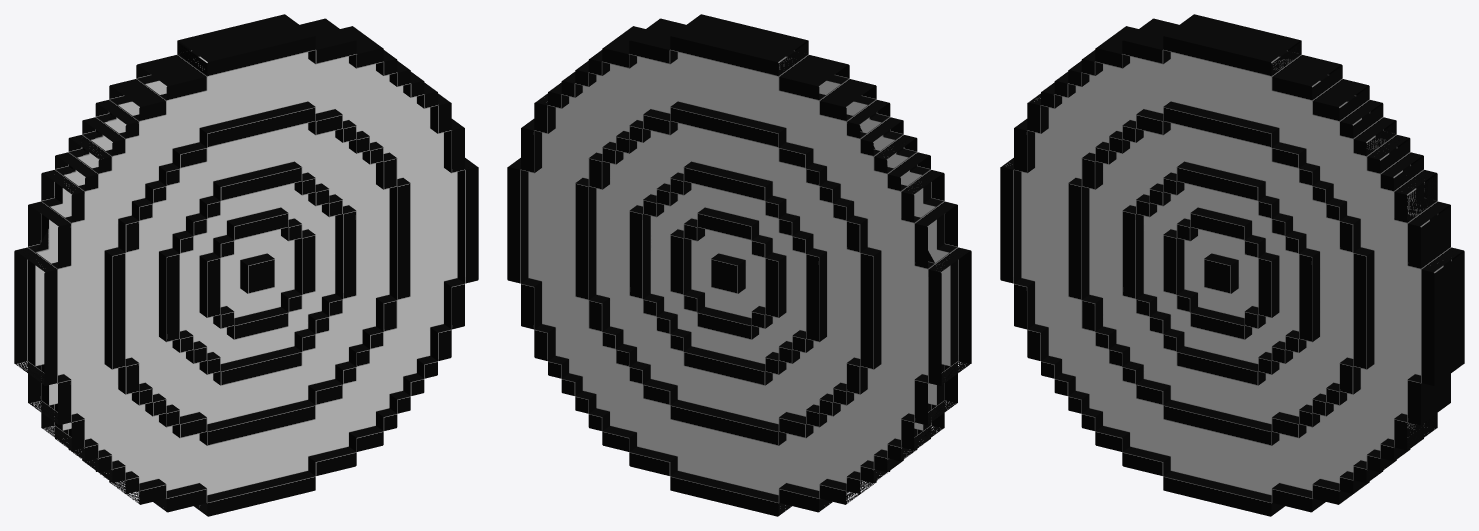
Rendered from Precision.fbx.
3 views of the same model, side by side, from view 1: azimuth 30°, elevation 25°; view 2: azimuth 150°, elevation 25°; view 3: azimuth 330°, elevation 25° (orthographic).
Visible parts, largest first — view 1: Precision; view 2: Precision; view 3: Precision.
Boxes of the visible parts, box(x1,y1,x2,y2) form: Precision: box(14, 14, 478, 516); Precision: box(507, 14, 971, 516); Precision: box(1000, 14, 1464, 516).
Size of the model in its own units: 1.67 by 1.67 by 0.2.
